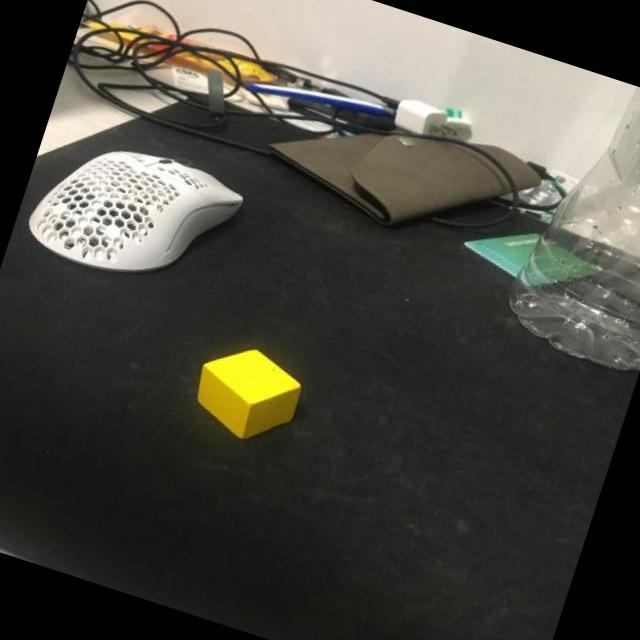yellow: (186, 335, 310, 452)
